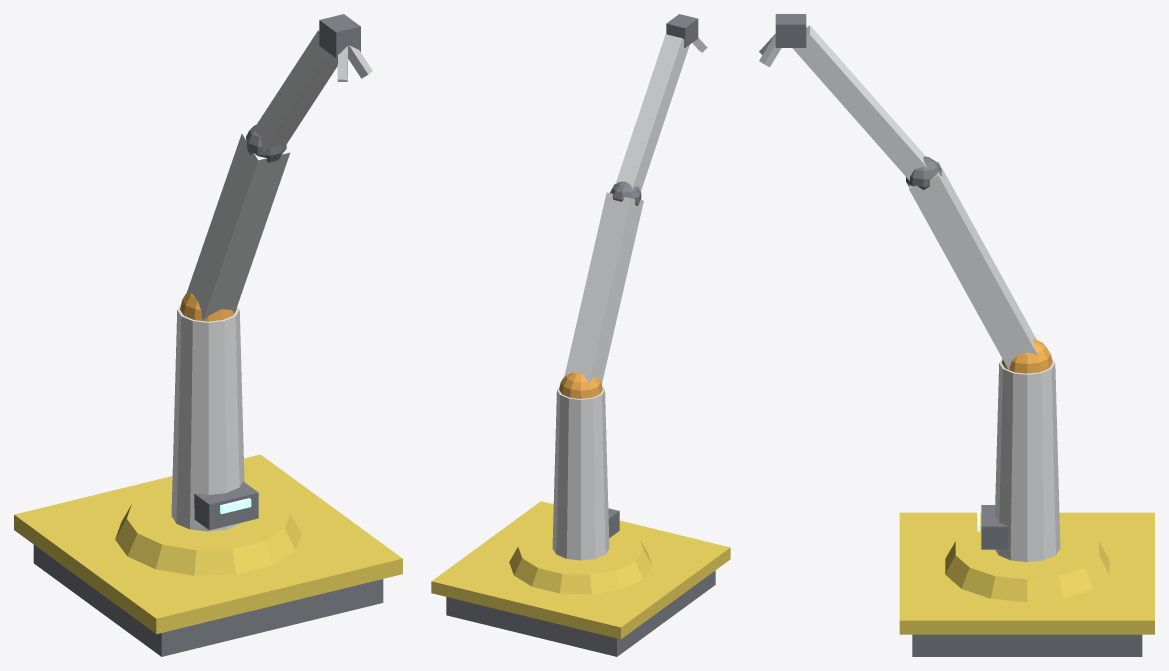
The model's file is robot-arm-floor.glb.
The picture shows the model from 3 angles, left to right: view 1: azimuth 30°, elevation 25°; view 2: azimuth 150°, elevation 25°; view 3: azimuth 270°, elevation 25°; orthographic projection. The views are drawn at different scales.
Visible parts, largest first — view 1: robot-arm-floor, arm-main/shell, arm-main/graphite, arm-main/steel, arm-main/orange; view 2: robot-arm-floor, arm-main/shell, arm-main/graphite, arm-main/orange; view 3: robot-arm-floor, arm-main/shell, arm-main/graphite, arm-main/orange.
Boxes of the visible parts, x1,y1,x2,y2 form: robot-arm-floor: (14, 303, 402, 656); arm-main/shell: (186, 30, 337, 320); arm-main/graphite: (246, 14, 360, 162); arm-main/steel: (337, 45, 372, 81); arm-main/orange: (180, 293, 236, 321); robot-arm-floor: (431, 385, 730, 656); arm-main/shell: (564, 34, 689, 384); arm-main/graphite: (610, 14, 698, 205); arm-main/orange: (559, 372, 602, 398); robot-arm-floor: (899, 357, 1154, 656); arm-main/shell: (792, 25, 1037, 369); arm-main/graphite: (775, 14, 941, 189); arm-main/orange: (1001, 339, 1052, 373).
Bounding box in the file's own units: 1 × 2.54 × 1.55.
